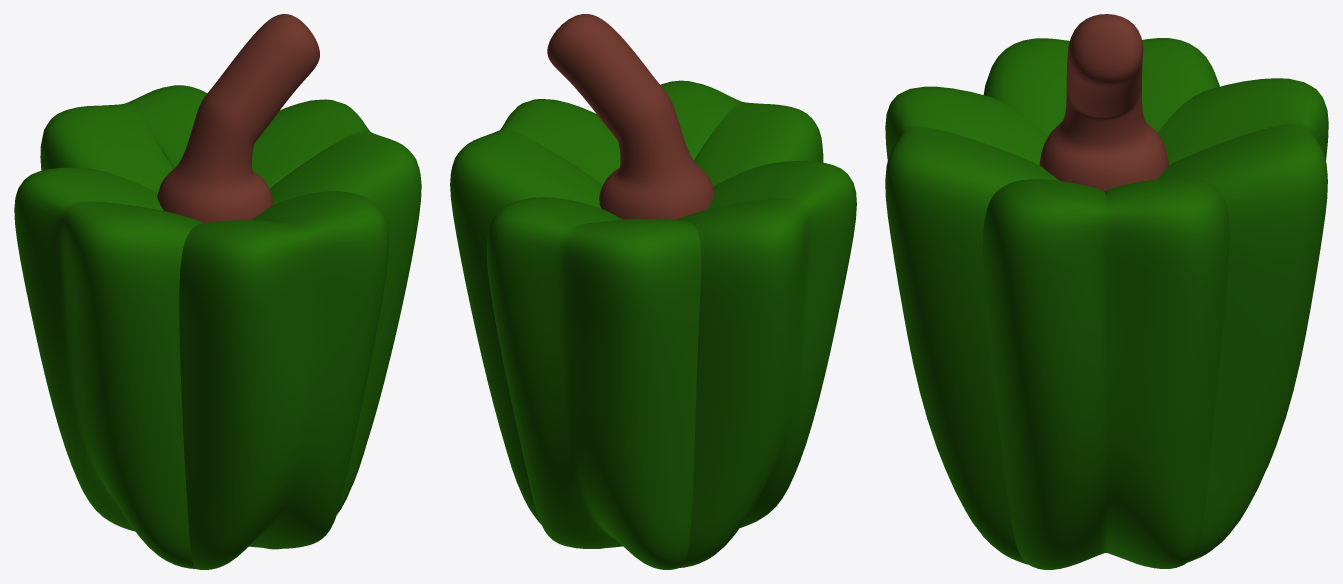
Rendered from Green_Pepper.fbx.
3 renders of one model, left to right at view 1: azimuth 30°, elevation 25°; view 2: azimuth 150°, elevation 25°; view 3: azimuth 270°, elevation 25°, orthographic. The views are drawn at different scales.
Parts seen in each view (by area): view 1: Green_Pepper; view 2: Green_Pepper; view 3: Green_Pepper.
Part boxes in pixels (x1,y1,x2,y2): Green_Pepper: (14,14,421,569); Green_Pepper: (450,14,856,569); Green_Pepper: (885,14,1328,569).
Size of the model in its own units: 3.34 by 4.77 by 3.39.
